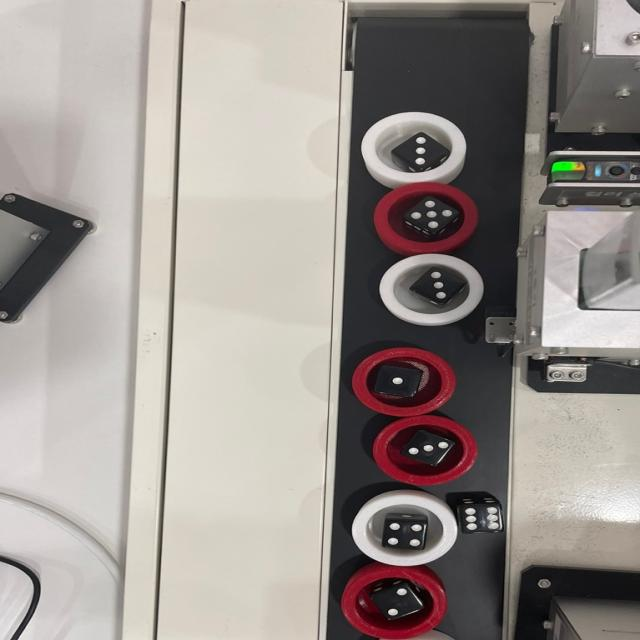DICE1: (379, 364, 420, 394)
DICE2: (379, 586, 419, 618)
DICE3: (416, 270, 460, 302), (402, 136, 443, 164), (408, 436, 448, 463)
DICE4: (384, 521, 426, 547)
DICE5: (411, 200, 452, 228)
DICE6: (463, 505, 504, 531)
RedChip: (373, 182, 478, 255), (339, 567, 445, 639), (352, 347, 458, 418), (373, 417, 476, 484)
WhiteChip: (359, 111, 465, 184), (377, 254, 482, 325), (350, 496, 458, 565)
